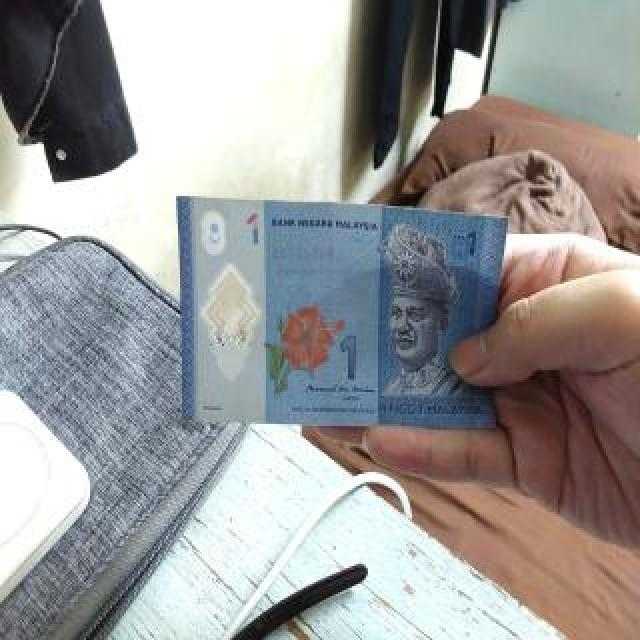1 Ringgit: (170, 198, 567, 436)
